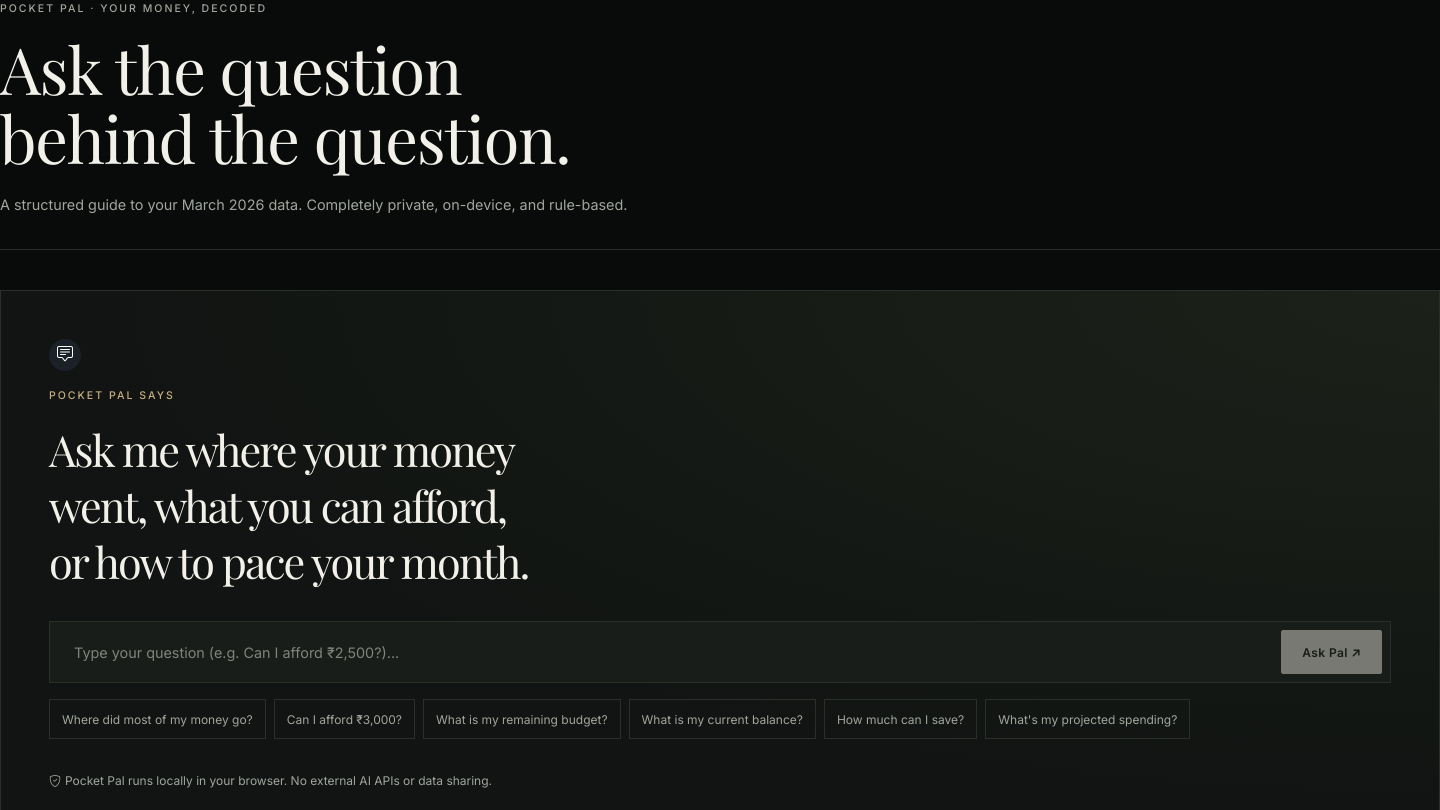
Test case: Pocket Pal frontend › clears pending replies as well as messages when confirmed
Click the button "What is my current balance?" at (722, 719), box [628,699,816,739]
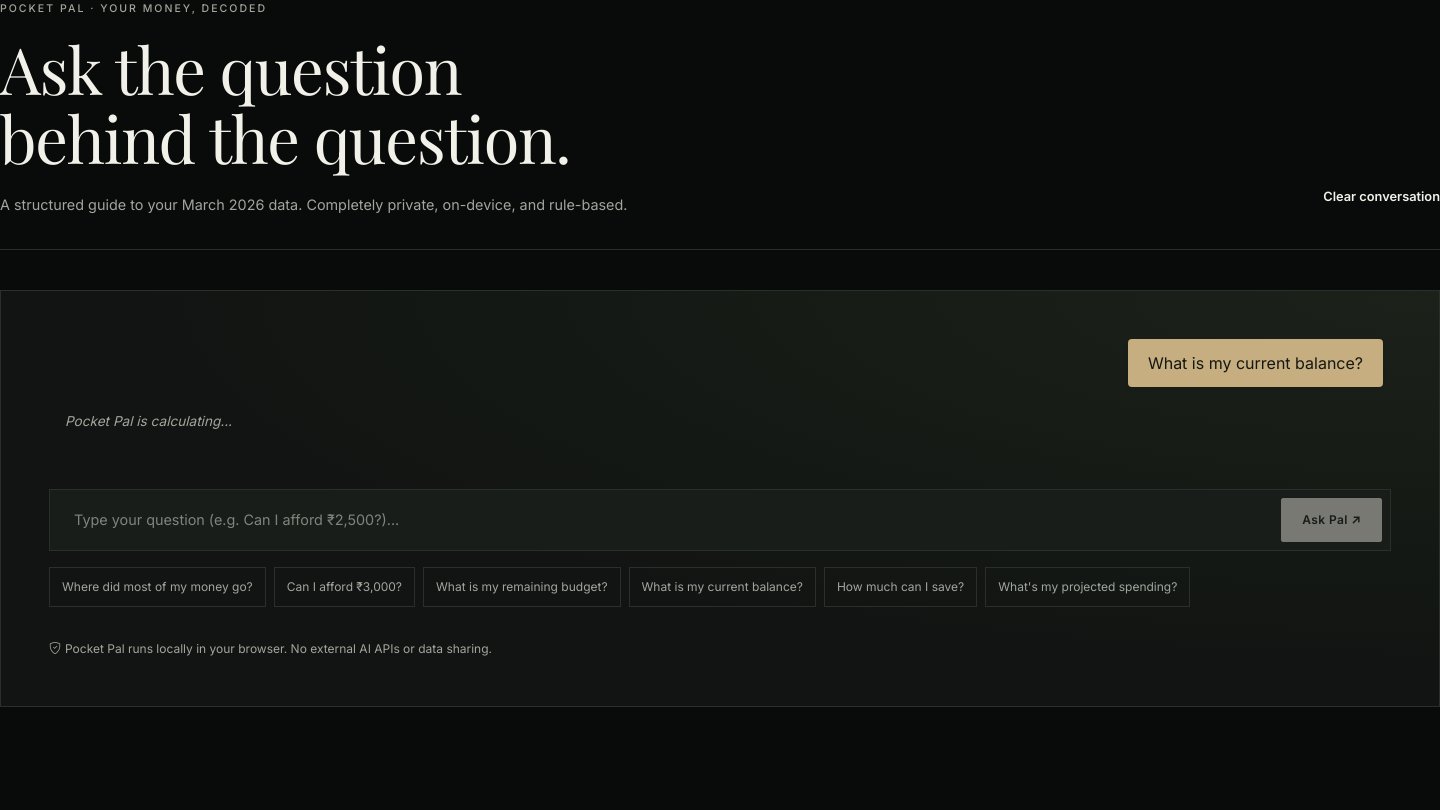
Click the button "Clear conversation" at (1382, 197), box [1323,177,1439,217]
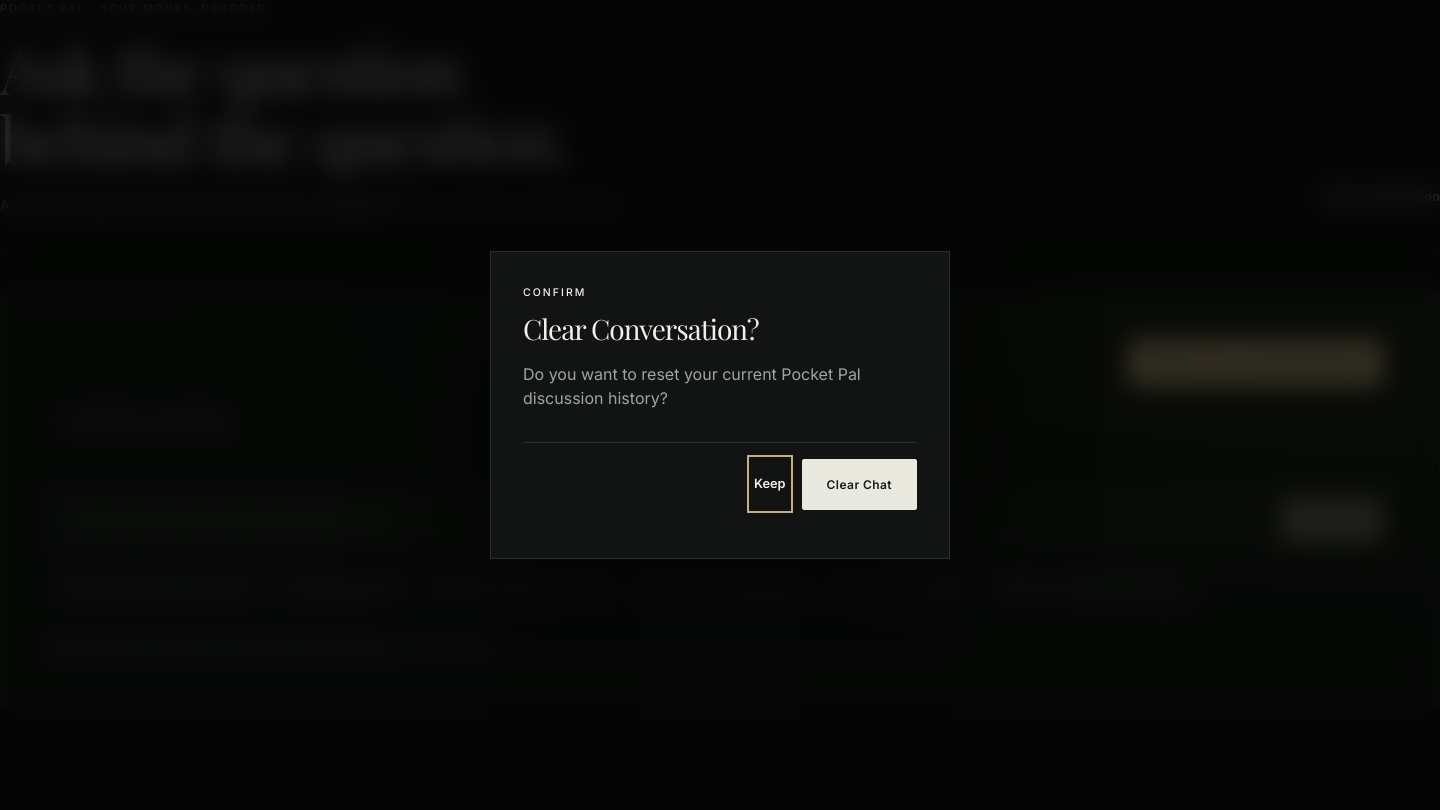
Click the button "Clear Chat" at (859, 484), box [802,459,917,510]
Wait 500 ms
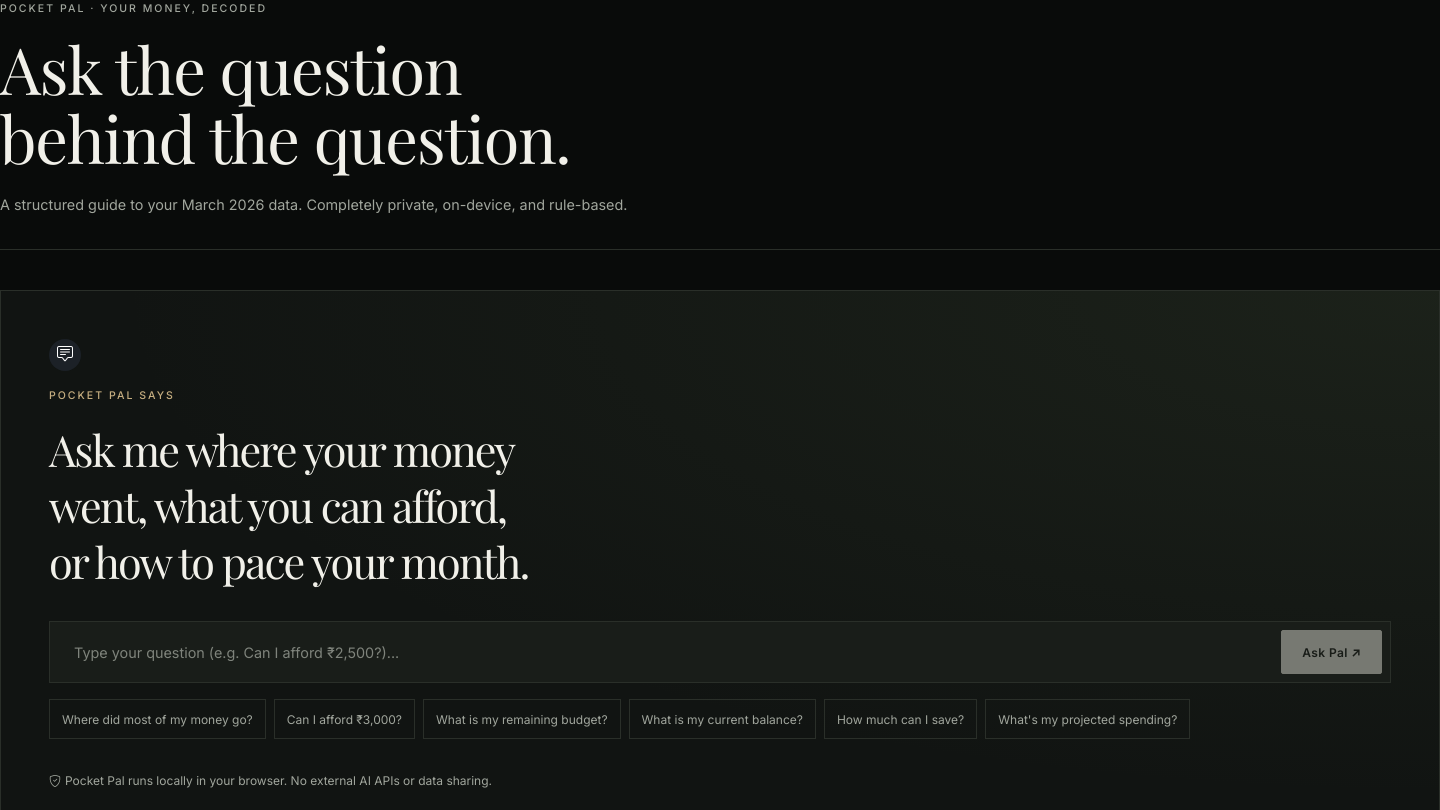
Check: the field named "Ask Pocket Pal a question" is enabled, box [58,630,1281,674]
